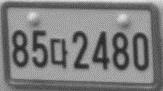0: (132, 31, 149, 71)
2: (71, 30, 89, 69)
4: (91, 30, 110, 70)
5: (31, 29, 48, 67)
8: (111, 31, 130, 70), (11, 29, 28, 67)
다: (49, 37, 68, 68)
